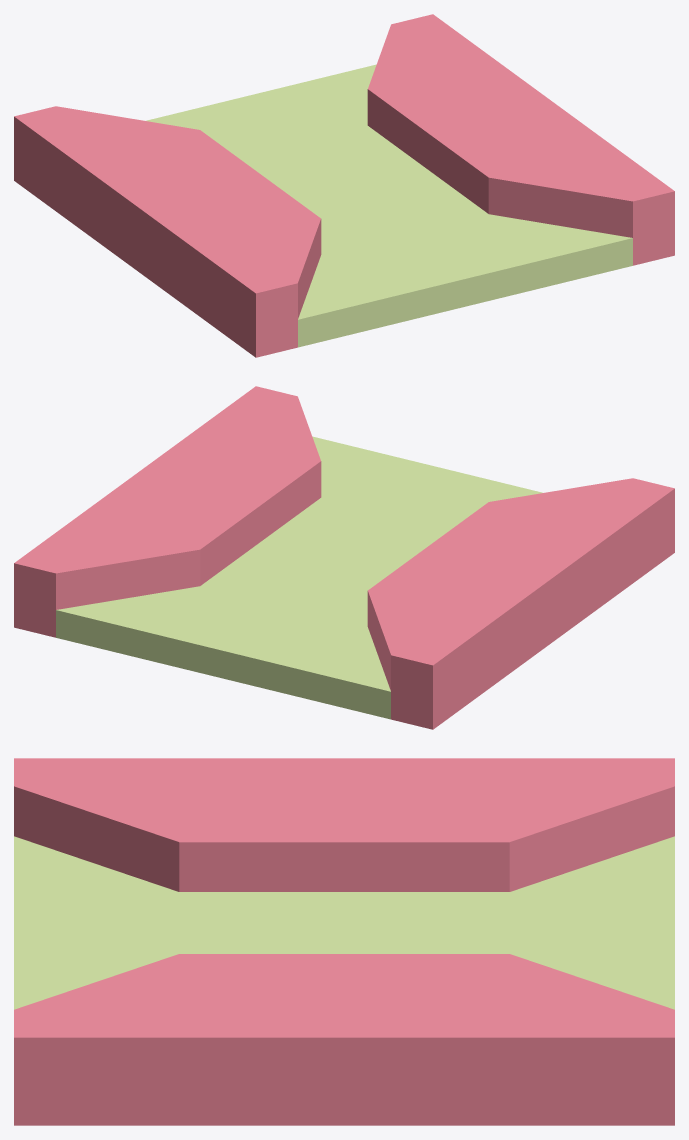
Rendered from narrowSquare.fbx.
3 renders of one model, top to bottom at view 1: azimuth 30°, elevation 25°; view 2: azimuth 150°, elevation 25°; view 3: azimuth 270°, elevation 25°, orthographic. The views are drawn at different scales.
Visible parts, largest first — view 1: narrowSquare; view 2: narrowSquare; view 3: narrowSquare.
Boxes of the visible parts, box(x1,y1,x2,y2) form: narrowSquare: box(14, 14, 674, 357); narrowSquare: box(14, 386, 674, 729); narrowSquare: box(14, 758, 674, 1125).
Bounding box in the file's own units: 99.99 × 14.67 × 99.99.
